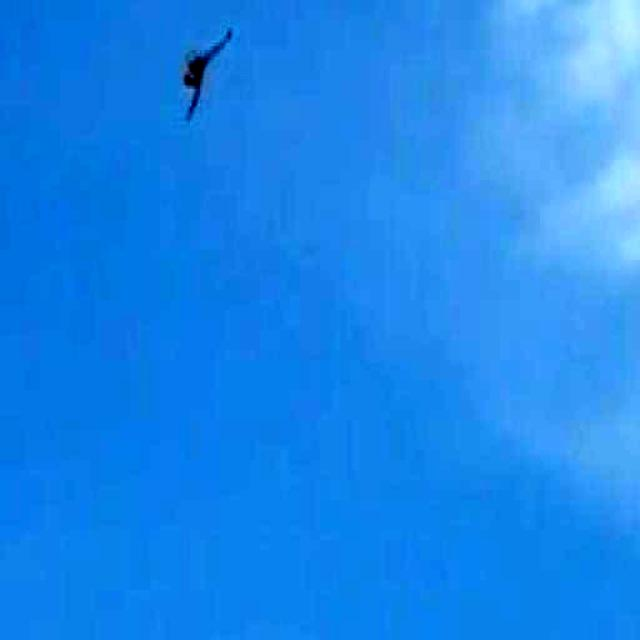drone: (176, 18, 240, 126)
